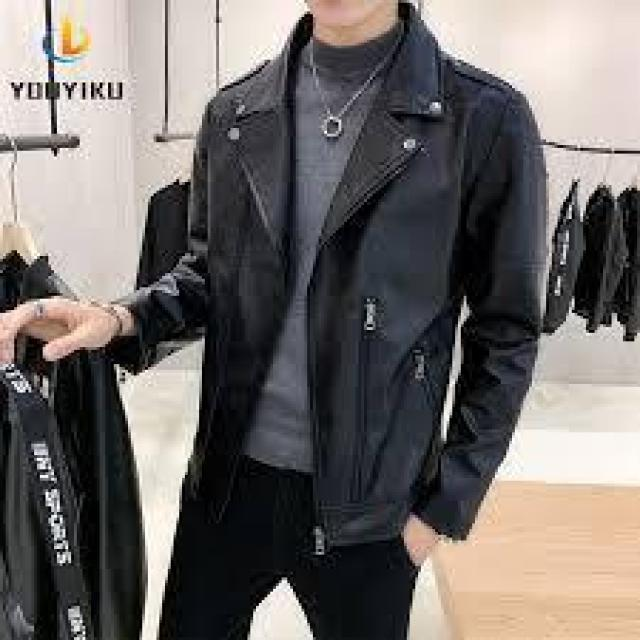jacket: (148, 22, 552, 574)
